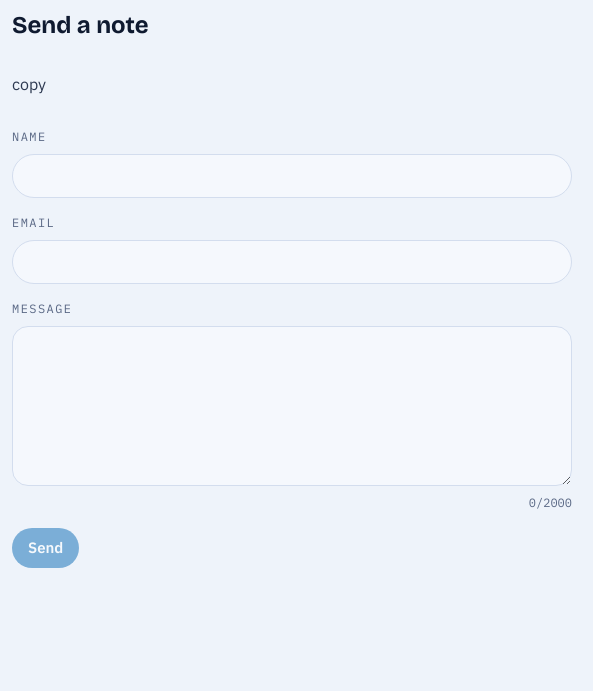
Test: ContactForm submit › 400 validation_failed renders per-field errors
The width and height of the screenshot is (593, 691).
Step 1. Type "Bob" into the field labelled "Name" → (292, 176), box [12,154,572,198]
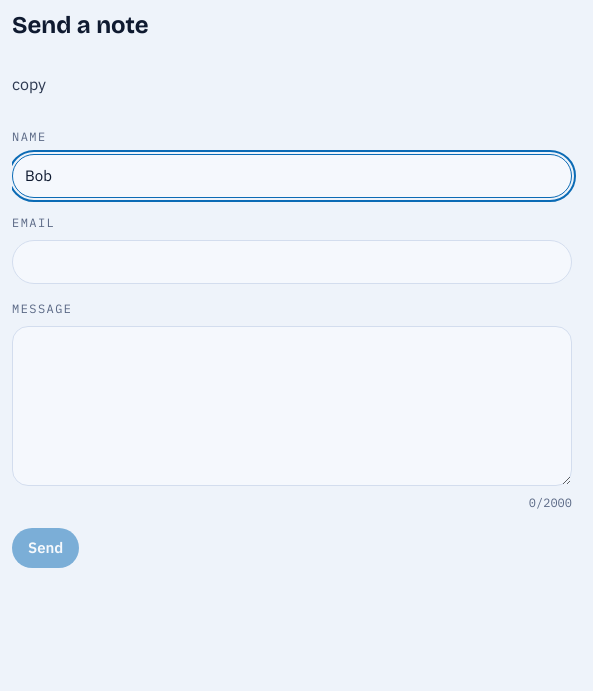
Step 2. Type "b@x.co" into the field labelled "Email" → (292, 262), box [12,240,572,284]
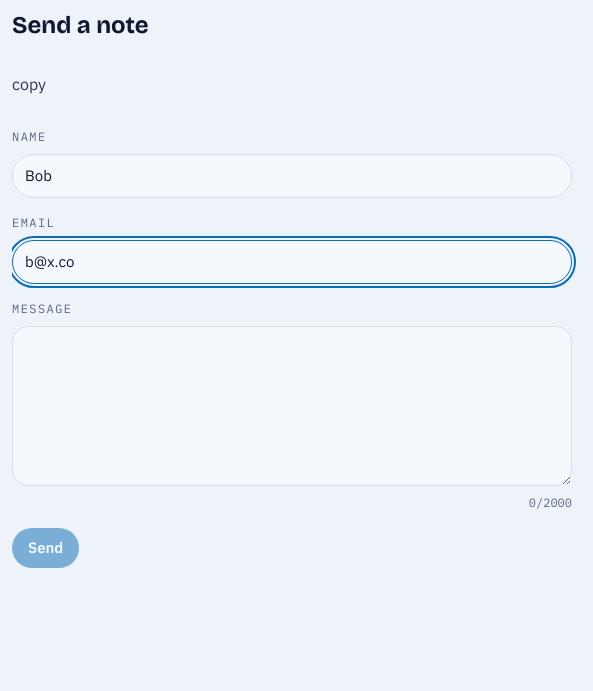
Step 3. Type "hi" into the text box labelled "Message" → (292, 406), box [12,326,572,486]
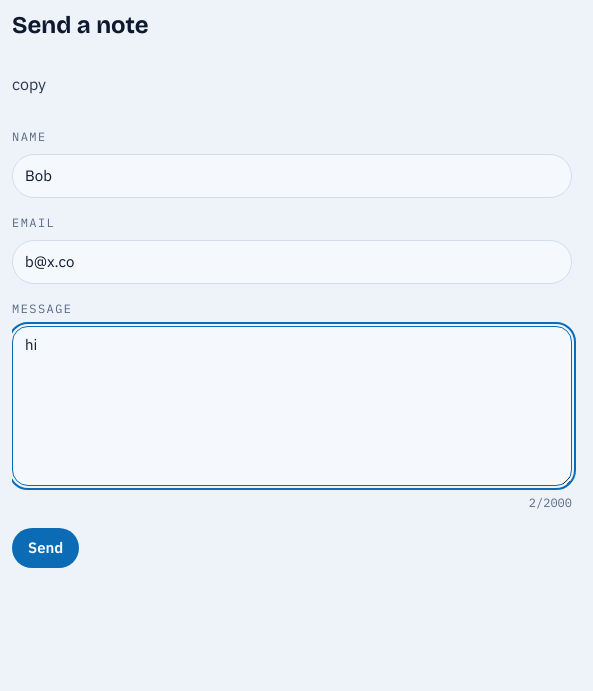
Step 4. Click the button with test id "contact-submit" → (46, 548), box [12,528,79,568]
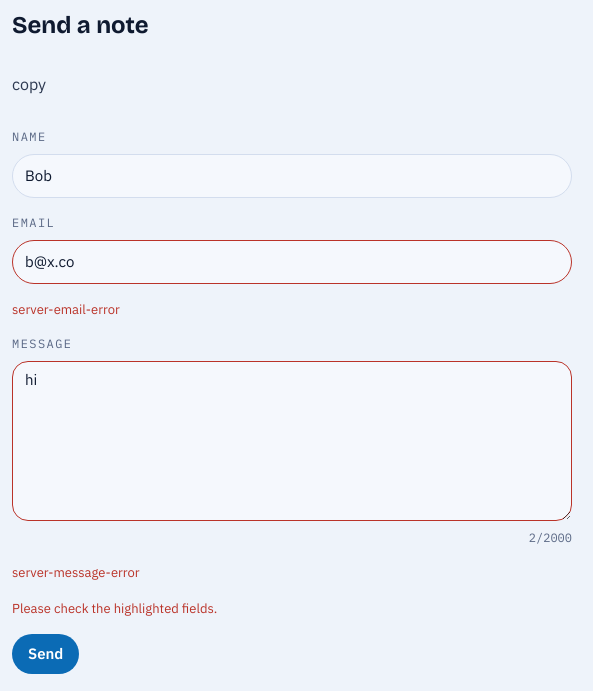
Expected: the text "server-email-error" is shown, [12,301,120,318]
Expected: the text "server-message-error" is shown, [12,564,140,581]
